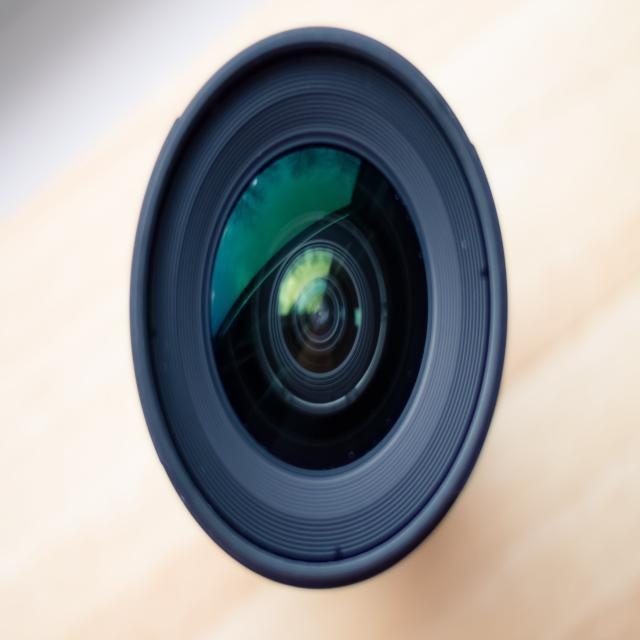hidden camera: (202, 144, 440, 486)
